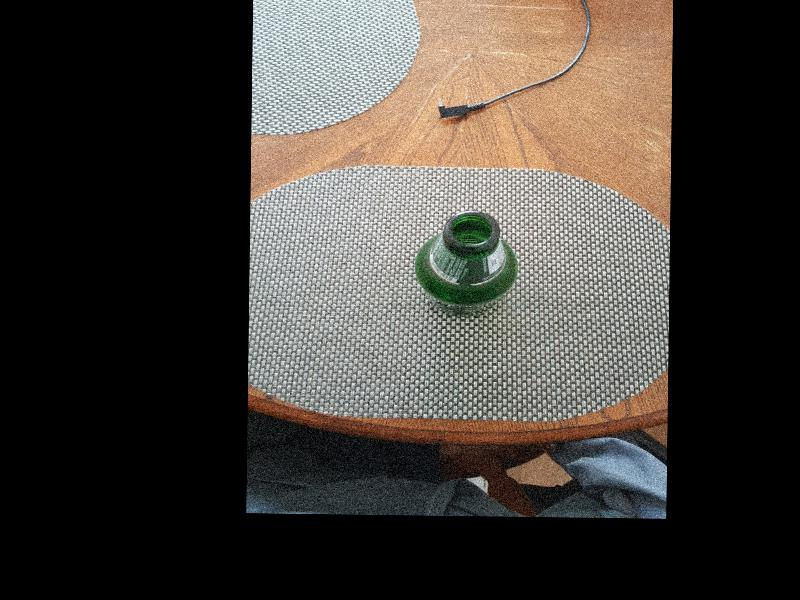Beer: (418, 211, 512, 316)
